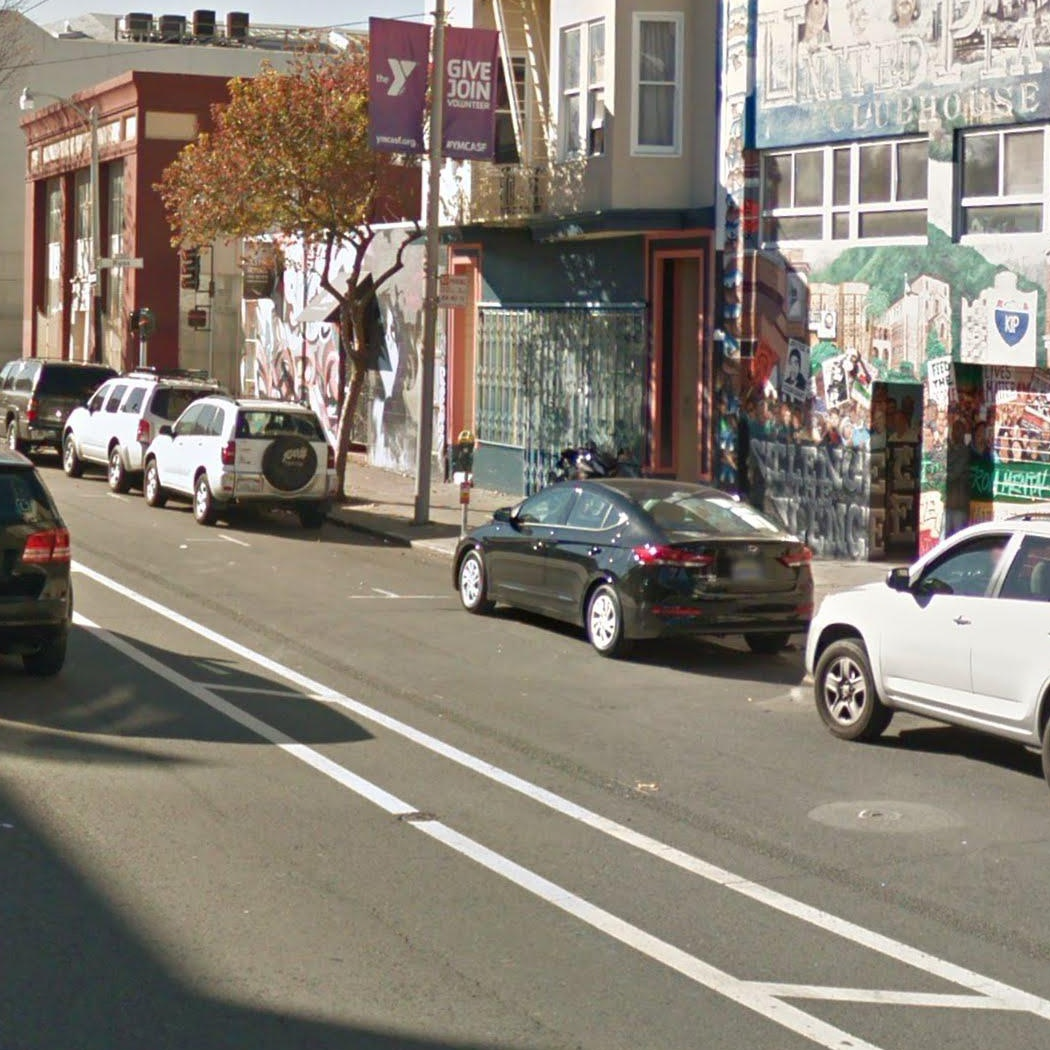No Parking: (436, 272, 471, 311)
